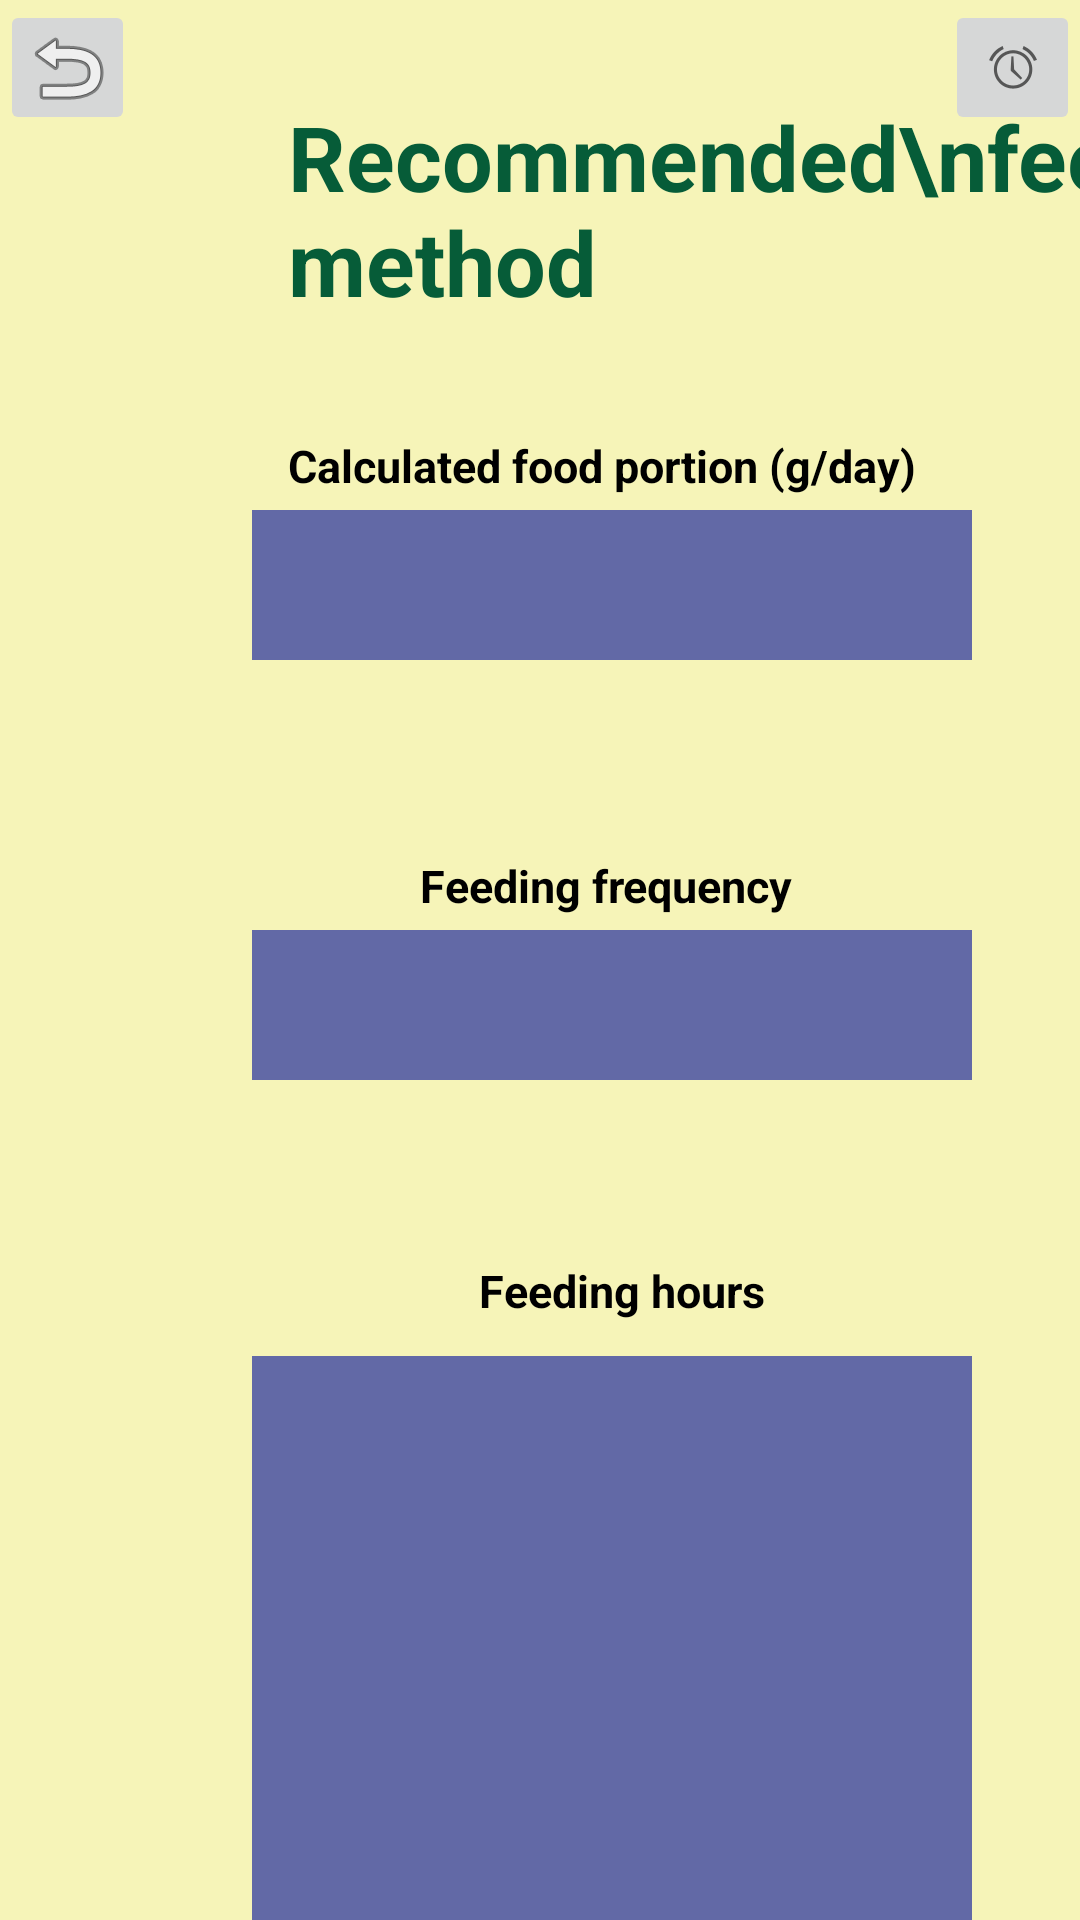

Named icons in this screenshot (1080×1920) and their bounding boxes, region(x1, y1, x2, y2):
revert: region(12, 18, 123, 117)
